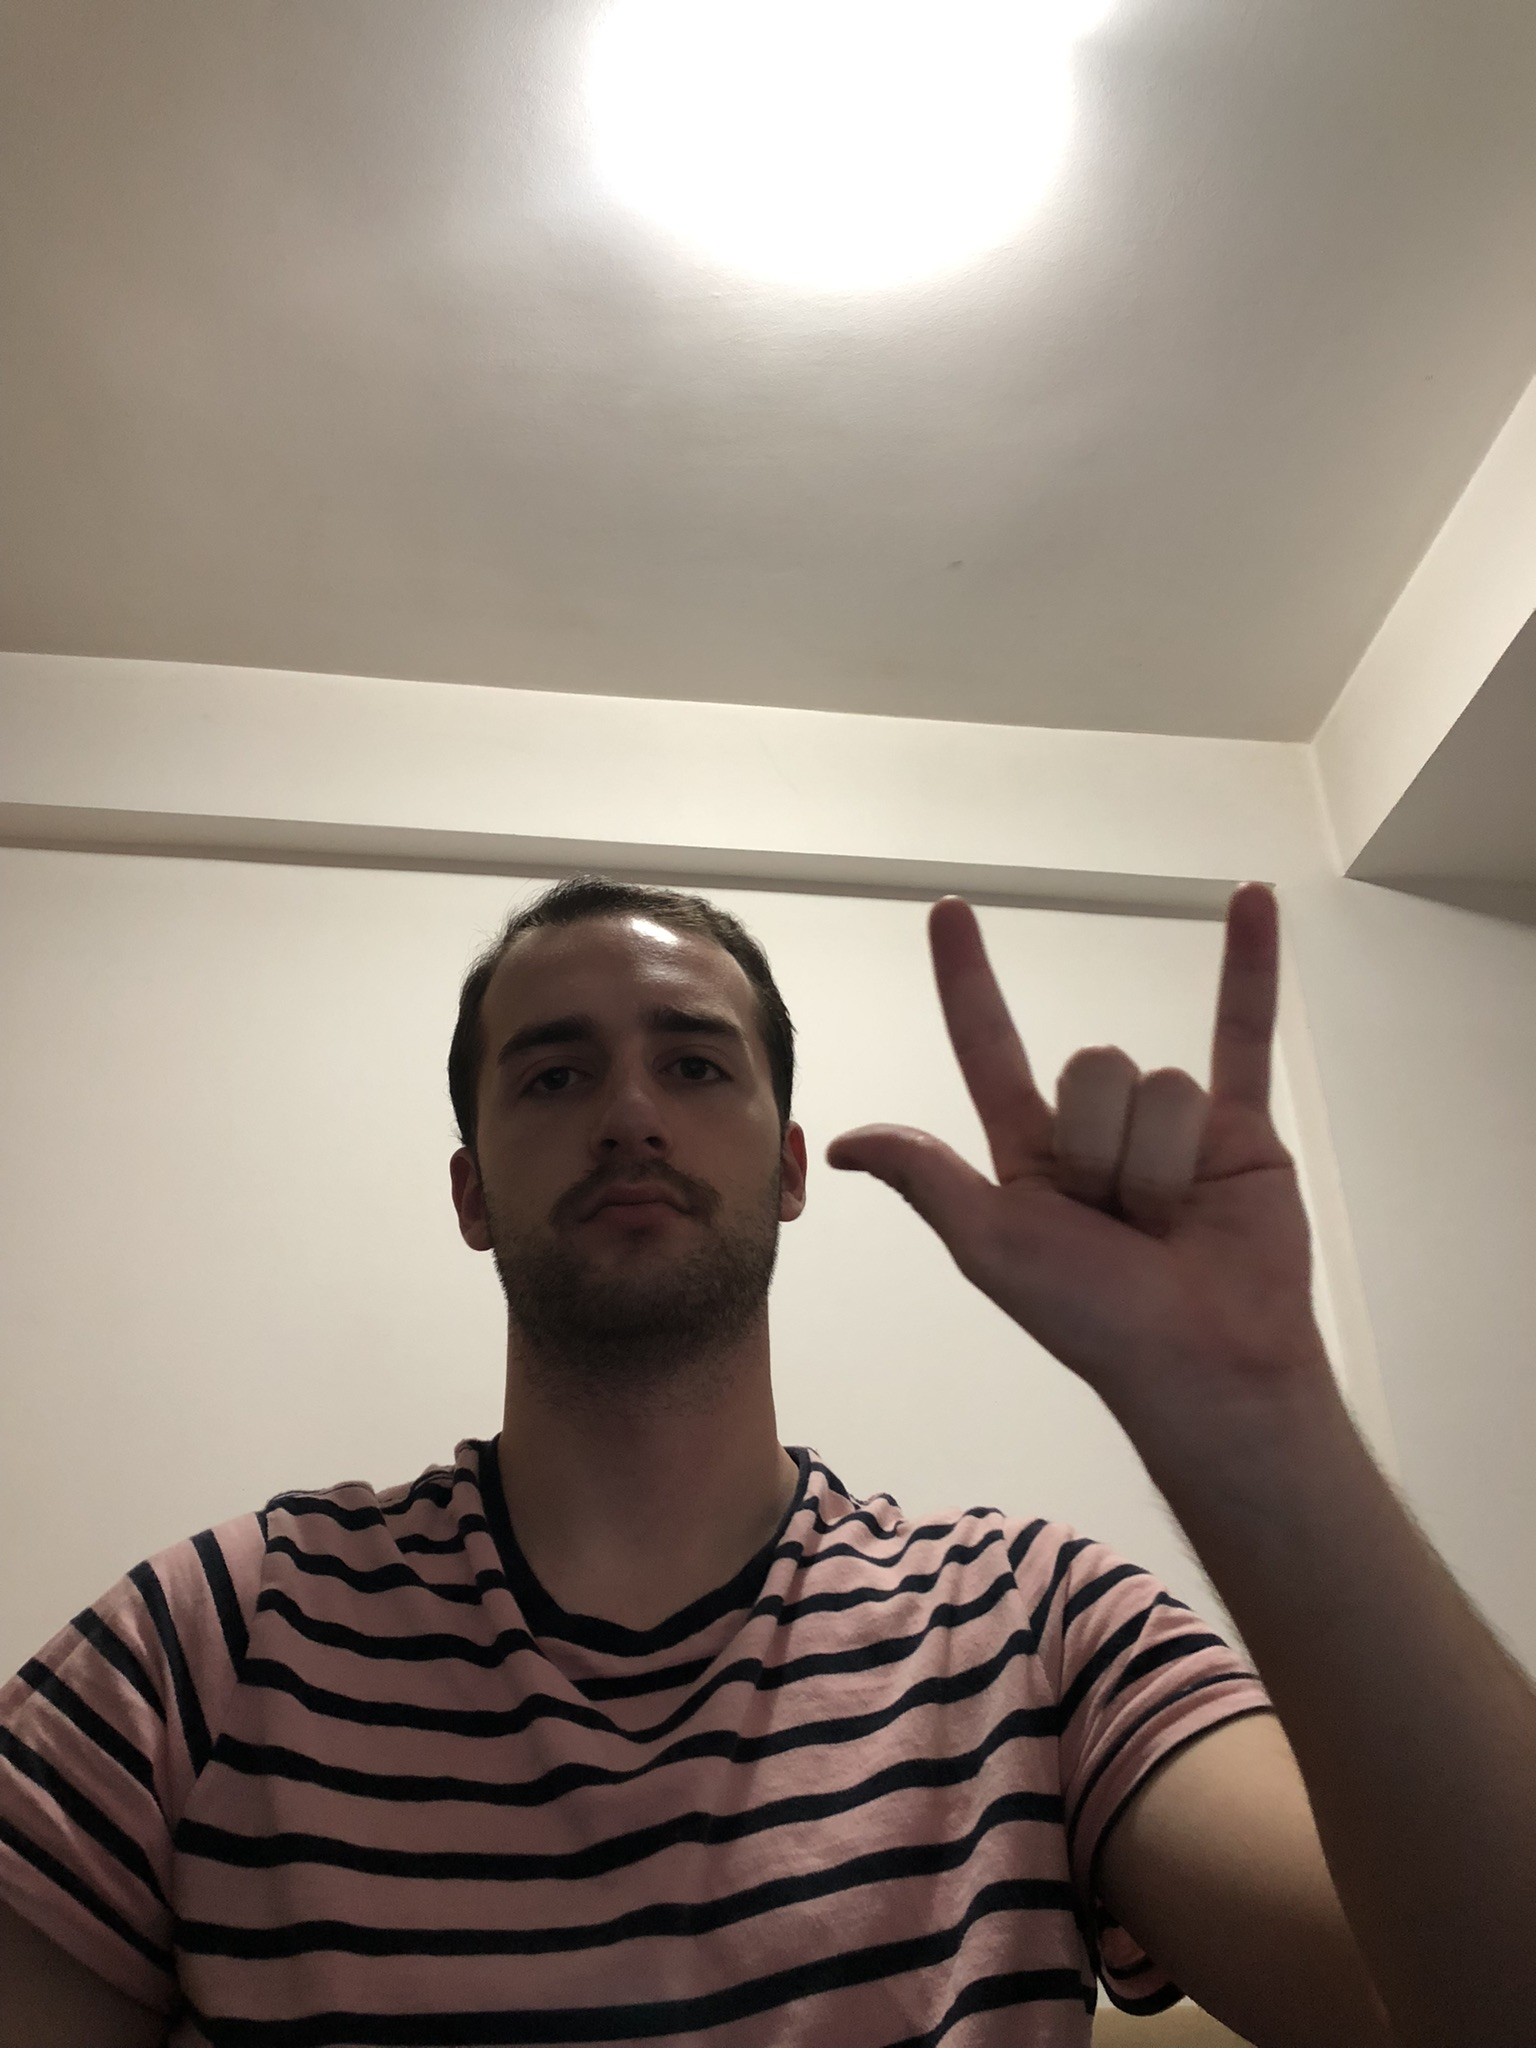I Love You: (813, 869, 1354, 1426)
